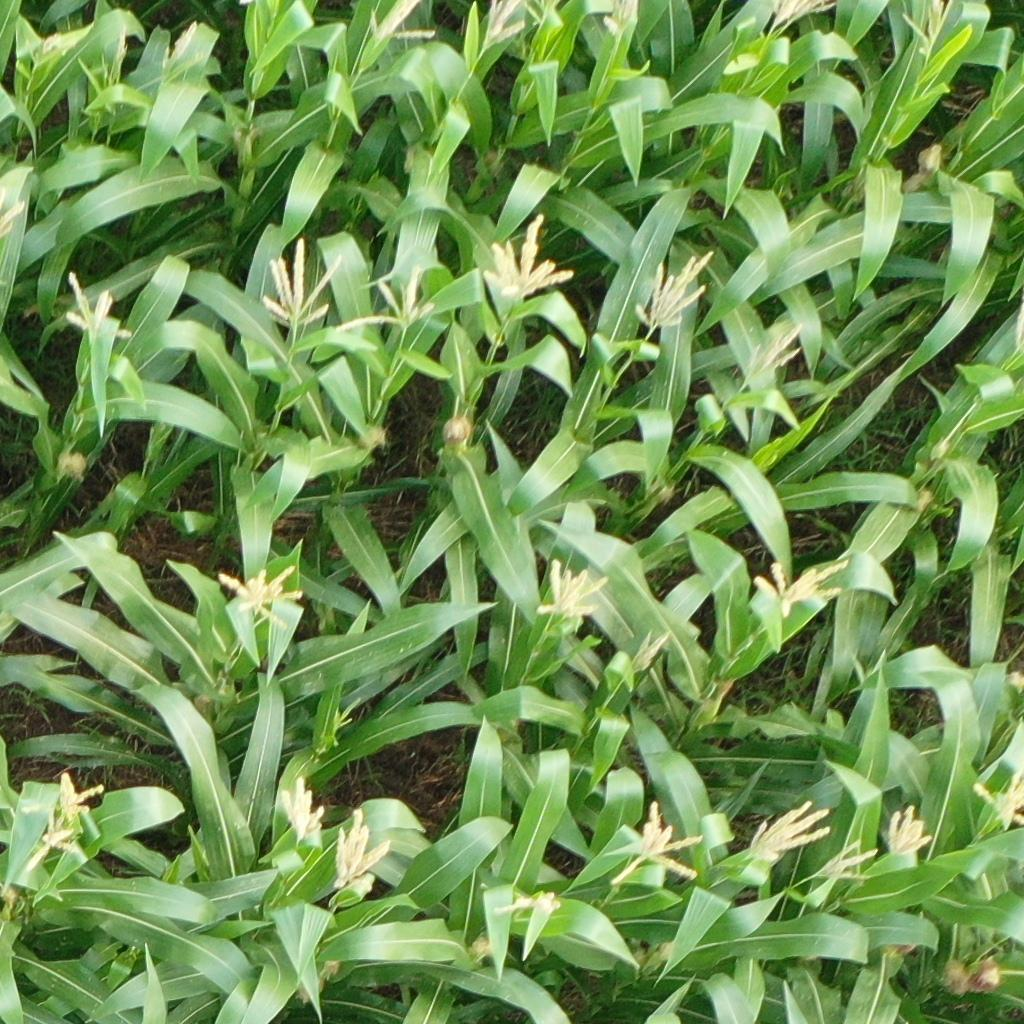Tassel: (607, 801, 709, 889), (328, 259, 440, 337), (479, 214, 575, 300), (628, 247, 717, 338), (261, 236, 345, 329), (752, 558, 853, 618), (213, 563, 306, 628), (746, 798, 833, 866), (330, 809, 394, 895), (533, 558, 610, 620), (66, 272, 128, 347), (21, 807, 89, 875), (744, 320, 809, 385), (19, 773, 101, 820), (276, 772, 327, 844), (967, 773, 1024, 833), (900, 1, 956, 62), (158, 20, 206, 89), (362, 1, 437, 45), (813, 836, 882, 883), (762, 1, 838, 40), (488, 885, 565, 923), (886, 801, 932, 857), (482, 1, 527, 58), (623, 629, 674, 679), (100, 24, 131, 89), (595, 1, 641, 41), (1, 182, 25, 238), (521, 1, 562, 28), (333, 695, 357, 732), (35, 30, 65, 55)
